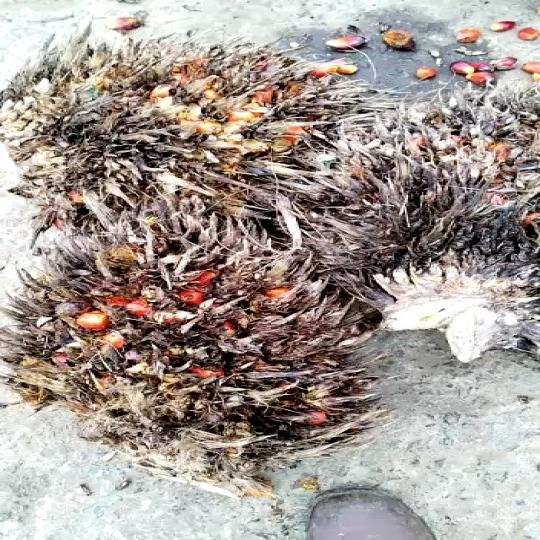terlalu masak: (0, 248, 412, 486), (0, 39, 391, 229)
